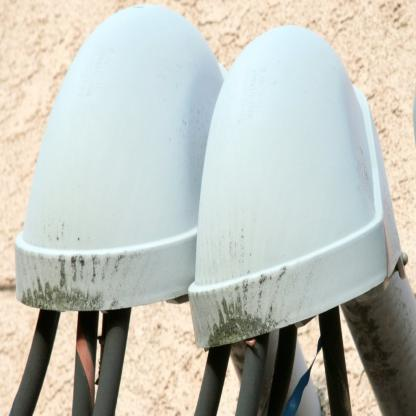Helmet: (183, 18, 413, 348)
